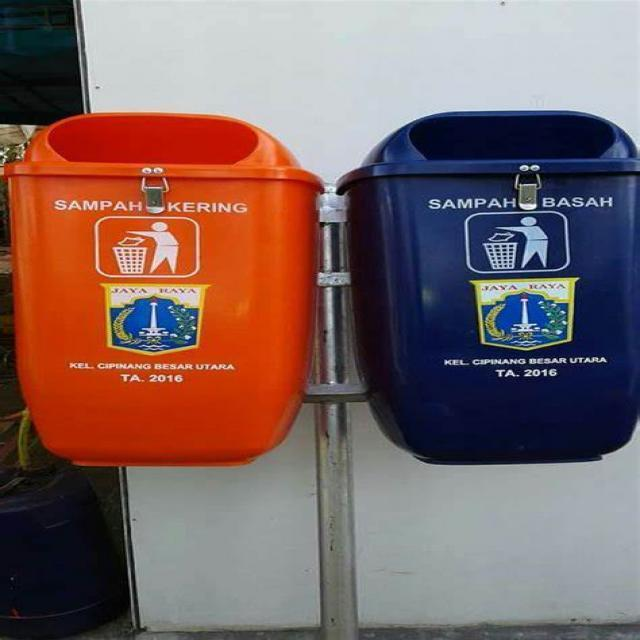garbage container: (1, 86, 345, 482), (338, 92, 640, 470)
